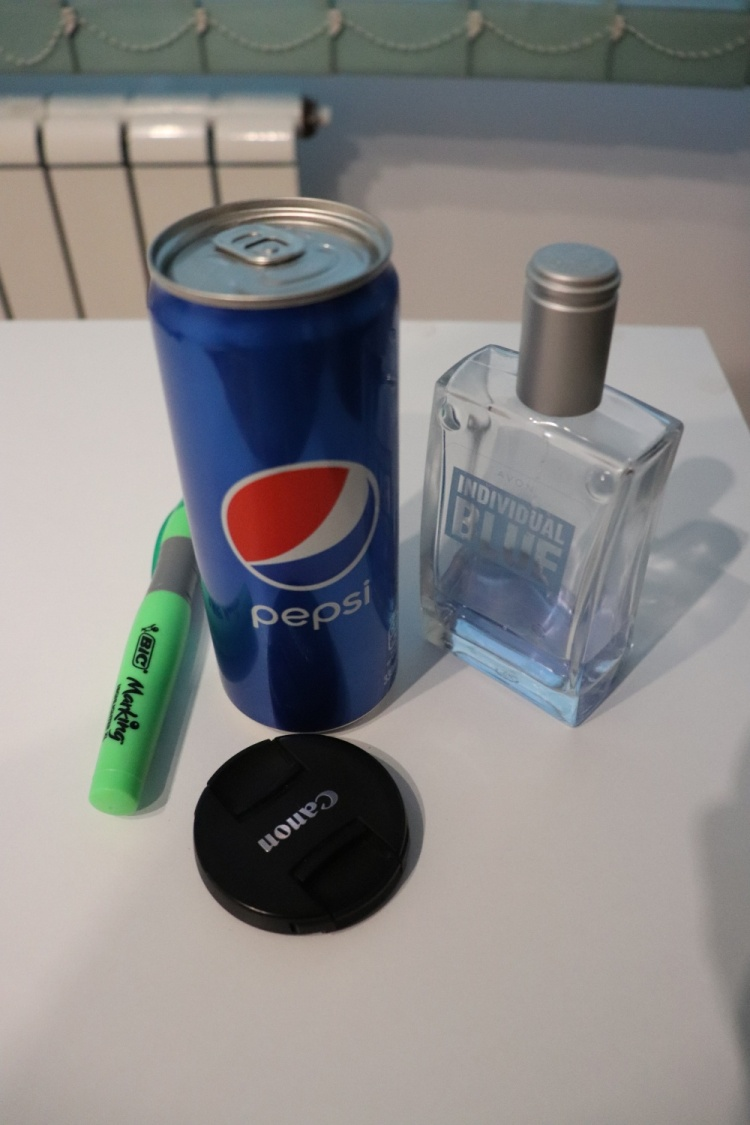pepsi: (141, 195, 412, 734)
